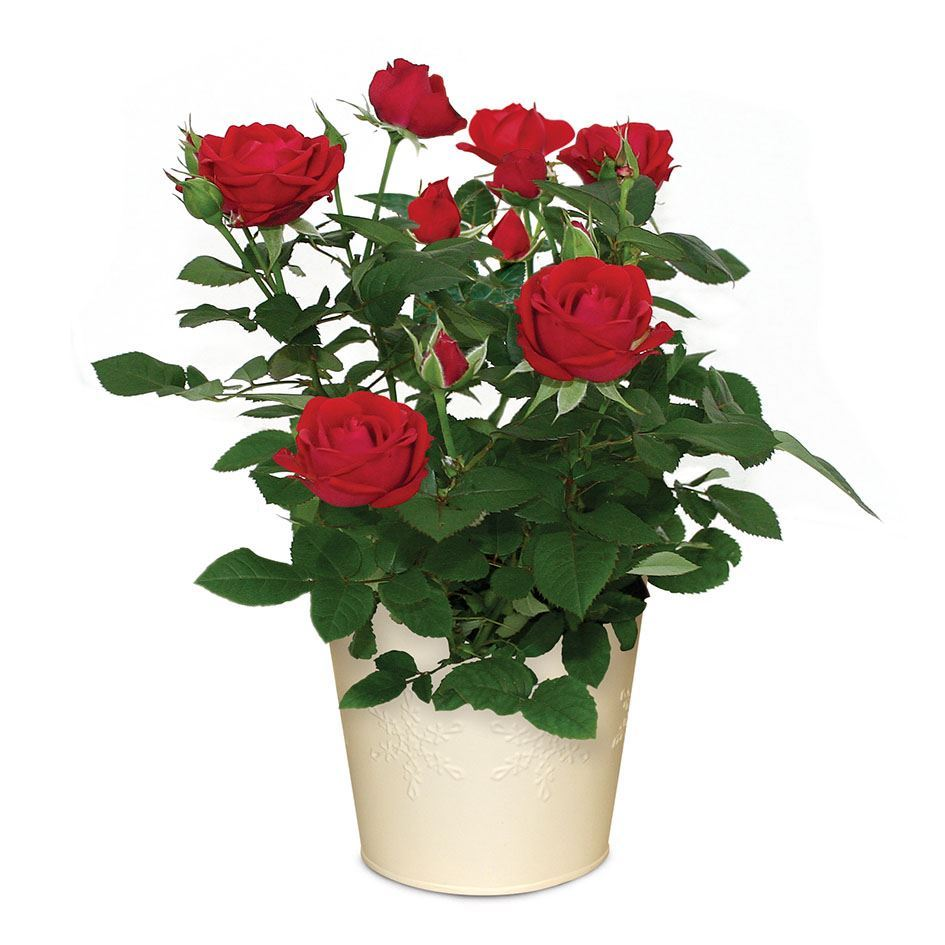plant: (93, 56, 875, 902)
